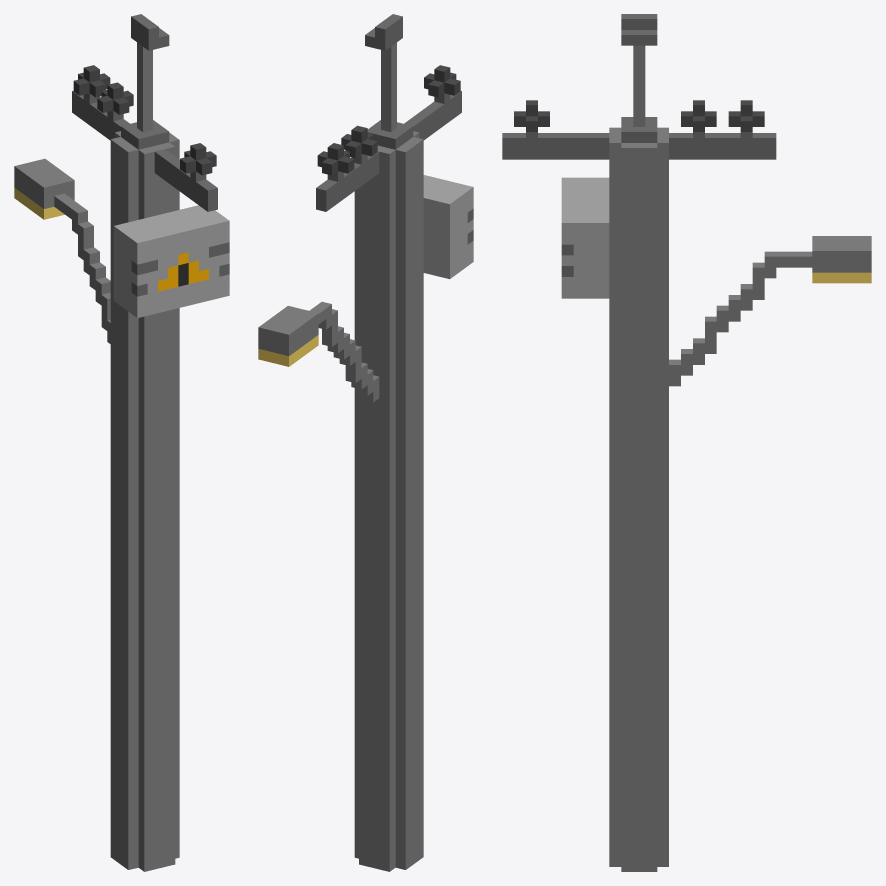
Rendered from poste.obj.
The picture shows the model from 3 angles, left to right: view 1: azimuth 30°, elevation 25°; view 2: azimuth 150°, elevation 25°; view 3: azimuth 270°, elevation 25°; orthographic projection.
Bounding box in the file's own units: 0.9 × 7.8 × 3.1.
Materials: 1 (1 with a texture image).
